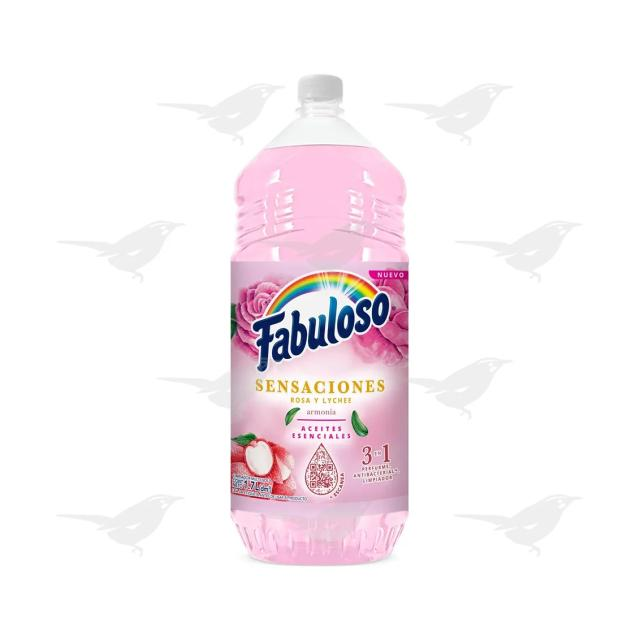Botella: (222, 56, 406, 556)
